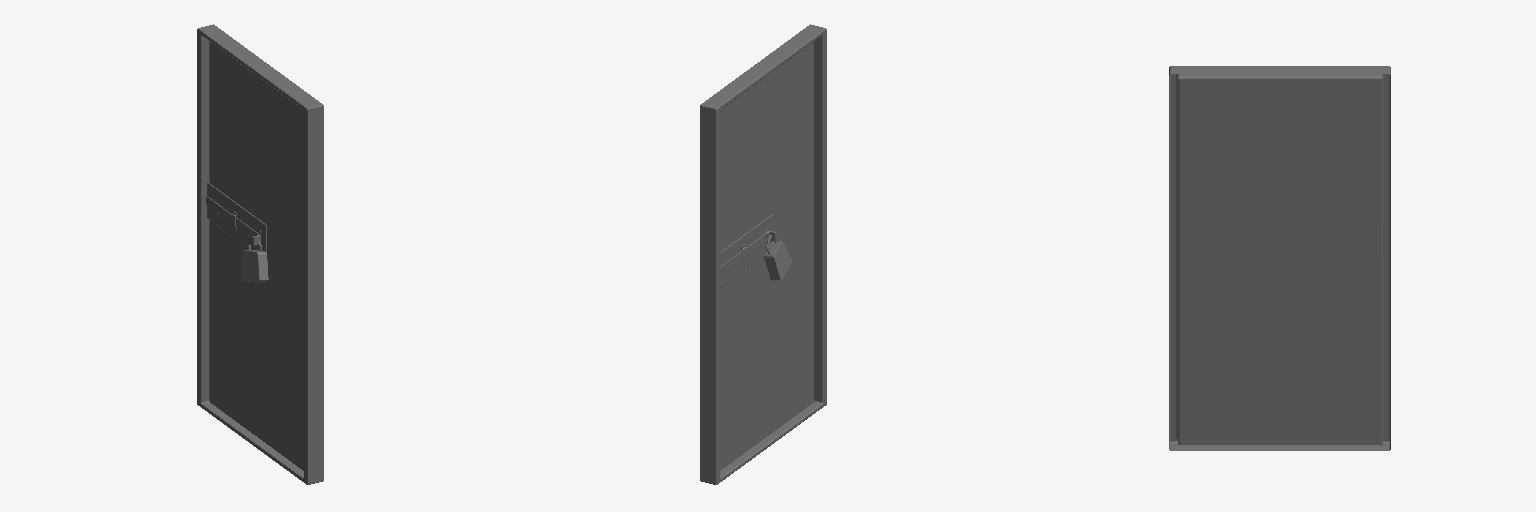
File: Pintu.obj
3 views of the same model, side by side, from view 1: azimuth 30°, elevation 25°; view 2: azimuth 150°, elevation 25°; view 3: azimuth 270°, elevation 25° (orthographic).
Visible parts, largest first — view 1: PINTU, pCube22, pPlane12, pTorus2; view 2: PINTU, pCube22, pPlane12, pTorus2; view 3: PINTU, pCube22.
Boxes of the visible parts, x1,y1,x2,y2 form: PINTU: [209, 41, 303, 470]; pCube22: [197, 24, 323, 484]; pPlane12: [207, 182, 266, 252]; pTorus2: [240, 237, 268, 282]; PINTU: [720, 42, 813, 470]; pCube22: [700, 24, 826, 484]; pPlane12: [720, 214, 772, 287]; pTorus2: [764, 235, 791, 280]; PINTU: [1178, 74, 1382, 445]; pCube22: [1169, 66, 1390, 450].
Size of the model in its own units: 0.7039 by 8.87 by 4.72.